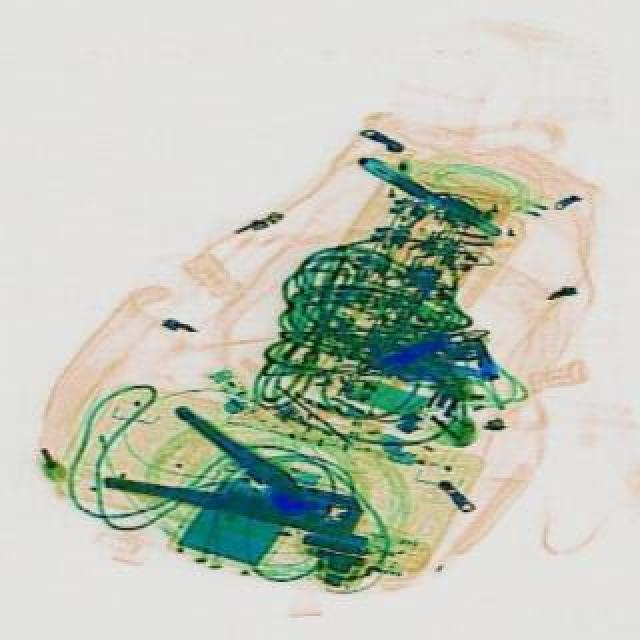wrench: (104, 388, 382, 572)
